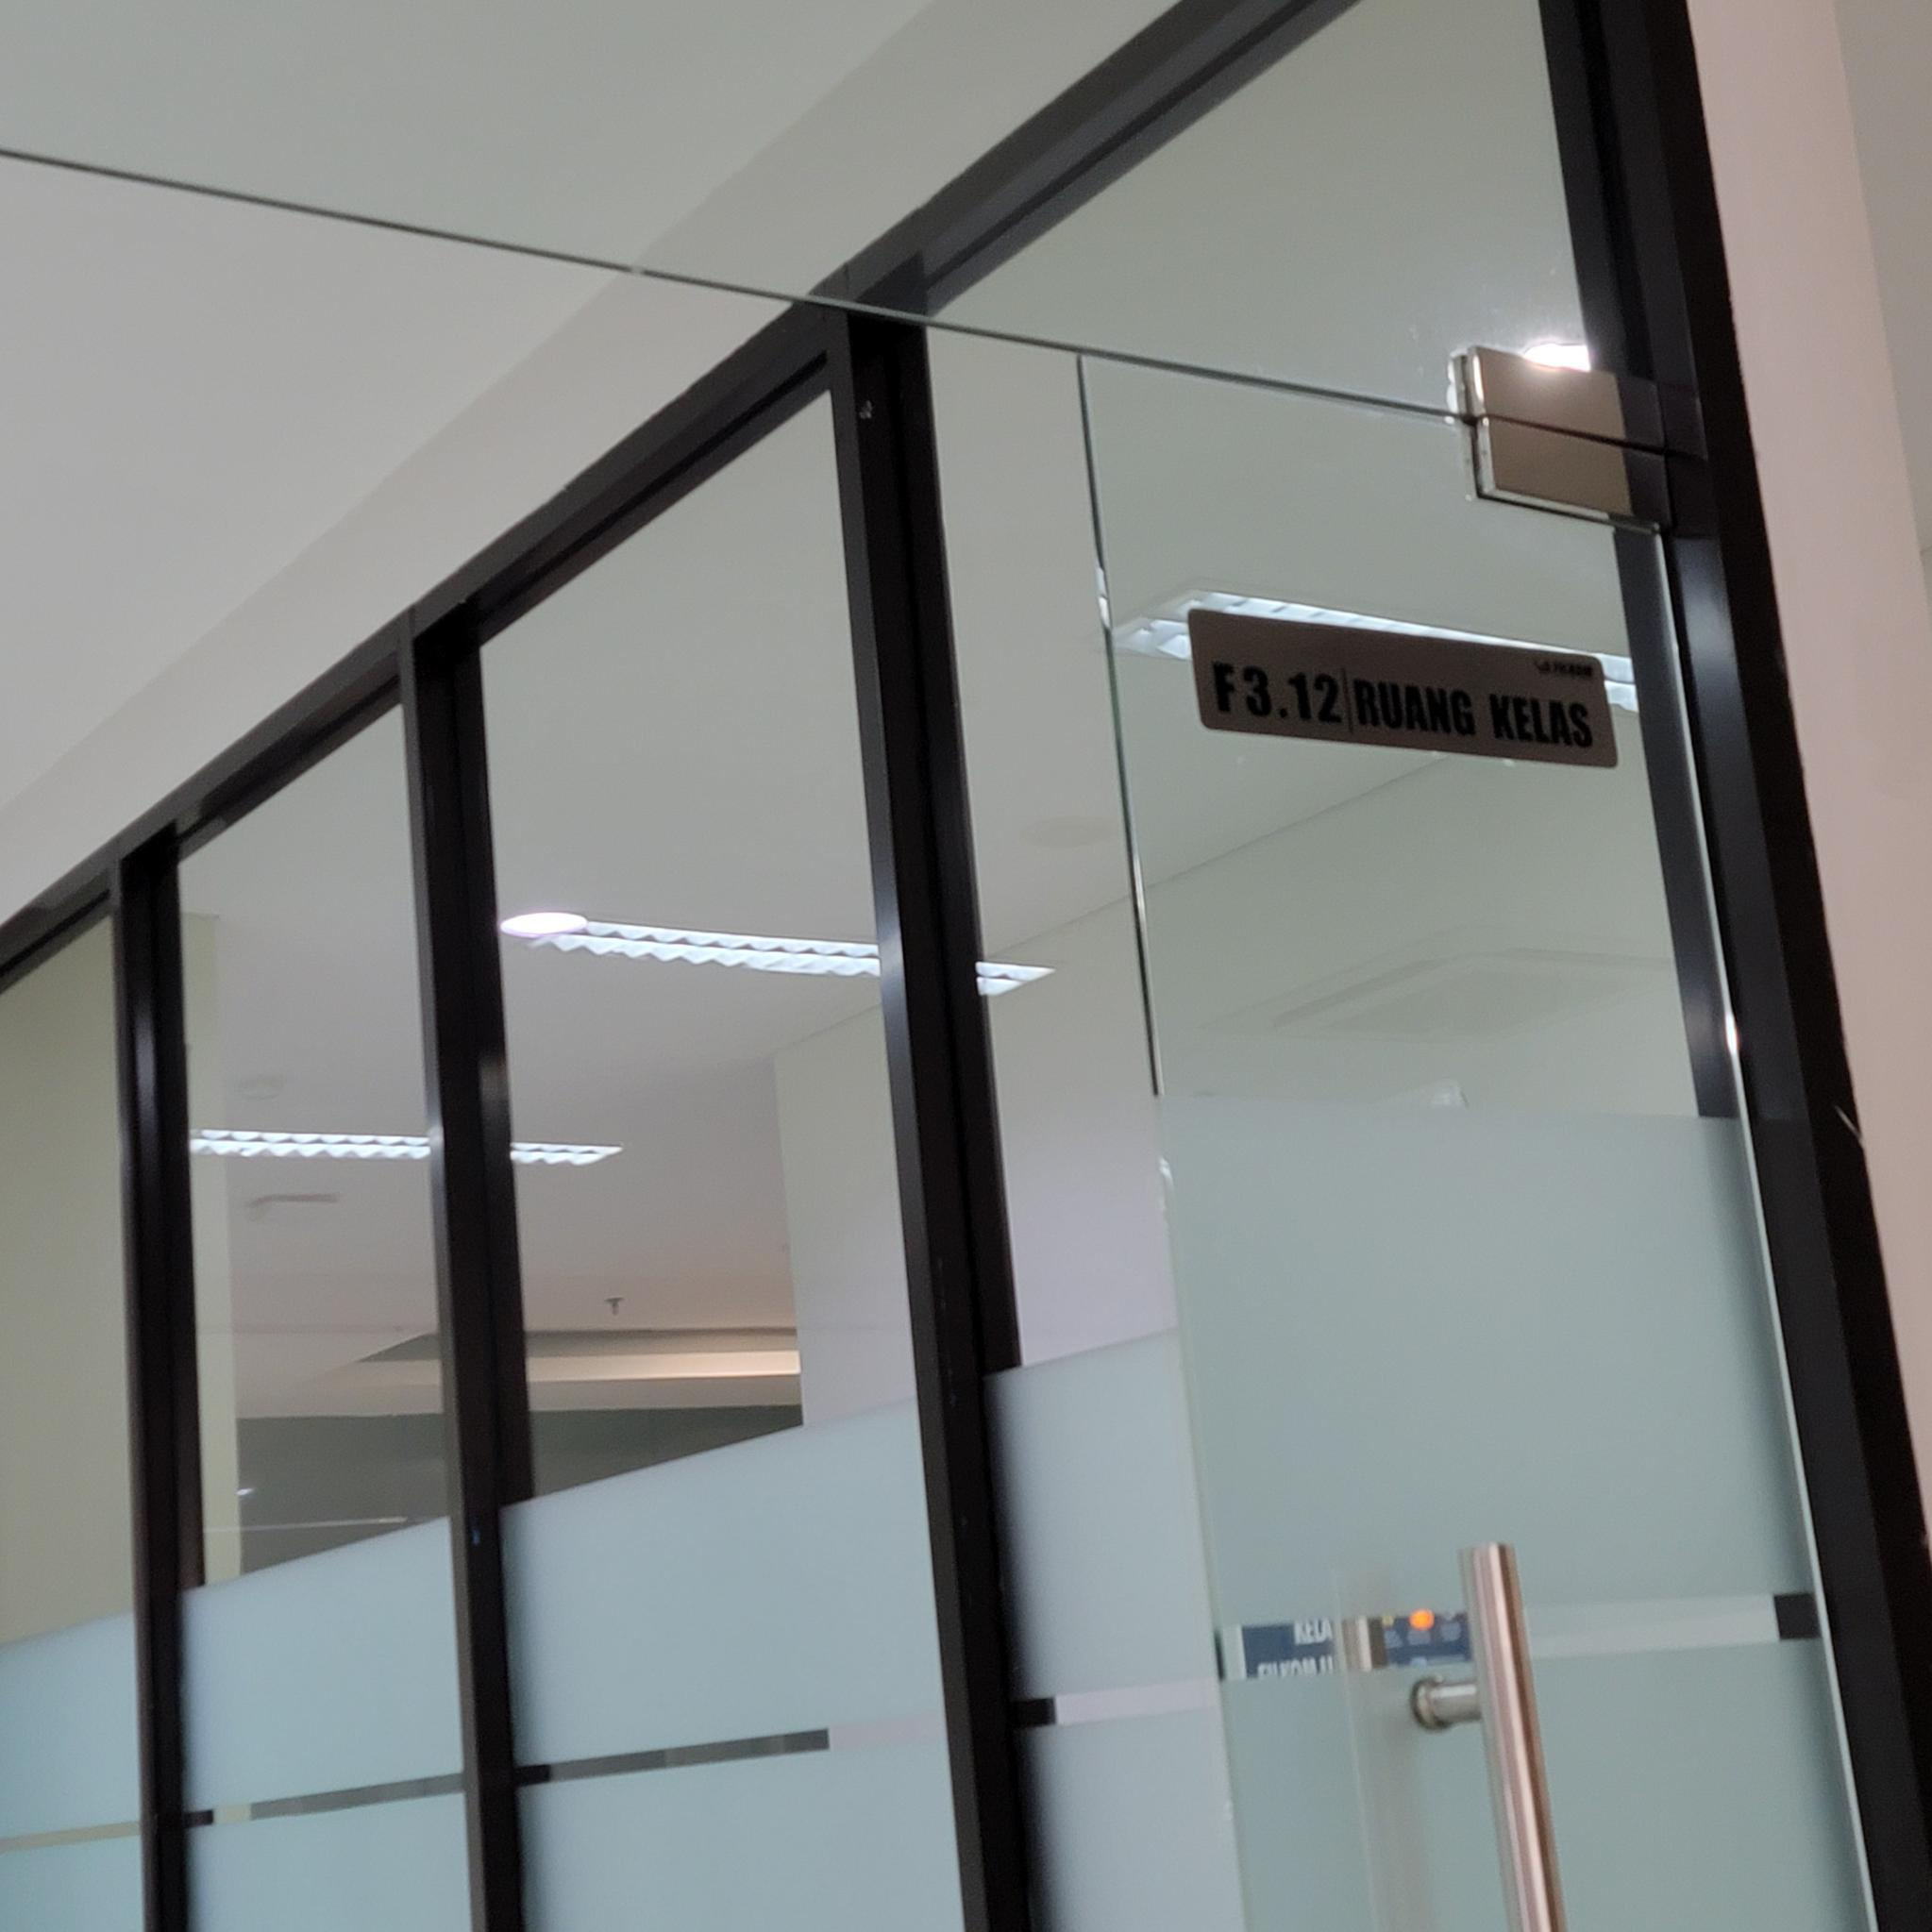plate: (1189, 607, 1617, 770)
